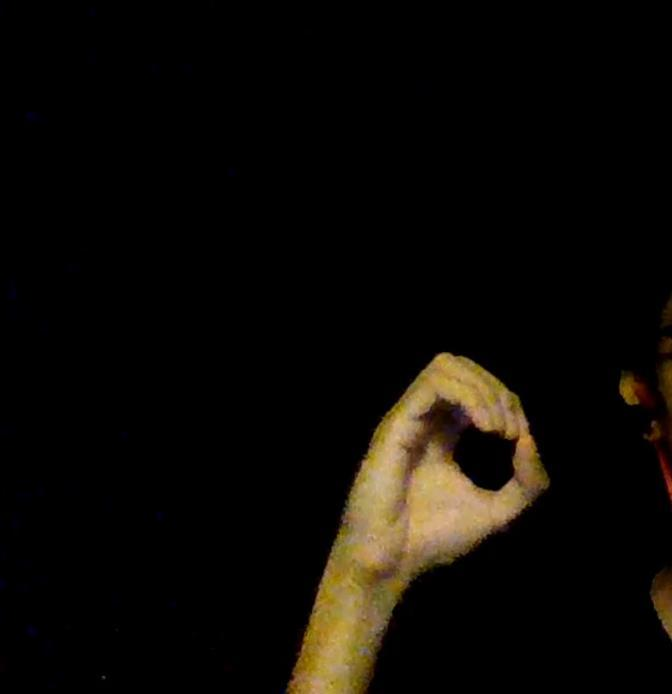o: (339, 349, 550, 574)
